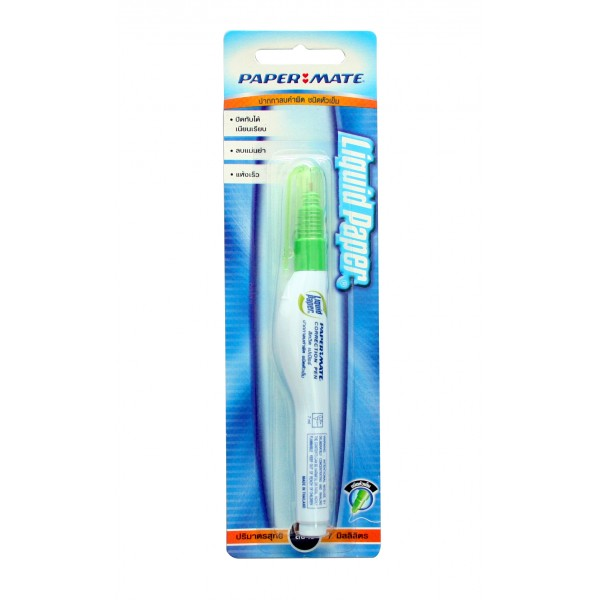Correction_fluid: (271, 159, 336, 541)
